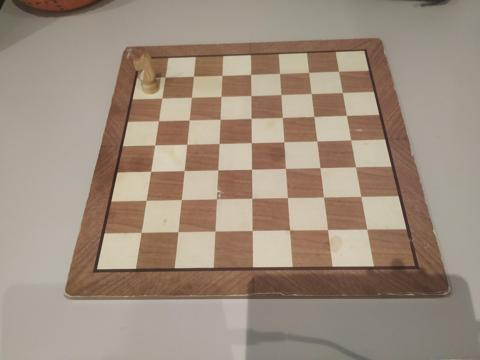xcorner: (181, 138, 192, 149), (152, 114, 163, 125), (246, 89, 257, 100), (211, 227, 221, 238), (326, 225, 336, 236), (248, 194, 259, 204), (358, 192, 369, 202), (310, 111, 321, 121), (342, 110, 353, 120), (135, 229, 145, 239), (173, 228, 183, 238), (249, 227, 259, 237), (288, 226, 298, 236), (365, 225, 375, 235), (140, 196, 150, 206), (176, 195, 186, 205), (212, 195, 222, 205), (285, 193, 295, 203), (322, 192, 332, 202), (145, 166, 155, 176), (179, 166, 189, 176), (213, 165, 223, 175), (248, 164, 258, 174), (283, 163, 293, 173), (318, 163, 328, 173), (353, 162, 363, 172), (149, 139, 159, 149), (214, 138, 224, 148), (247, 137, 257, 147), (281, 136, 291, 146), (314, 135, 324, 145), (347, 135, 357, 145), (184, 114, 194, 124), (215, 113, 225, 123), (247, 112, 257, 122), (279, 111, 289, 121), (156, 92, 166, 102), (186, 91, 196, 101), (216, 90, 226, 100), (277, 89, 287, 99), (307, 88, 317, 98), (338, 87, 348, 97), (159, 71, 169, 81), (188, 70, 198, 80), (217, 69, 227, 79), (246, 69, 256, 79), (275, 68, 285, 78), (305, 67, 315, 77), (334, 66, 344, 76)
